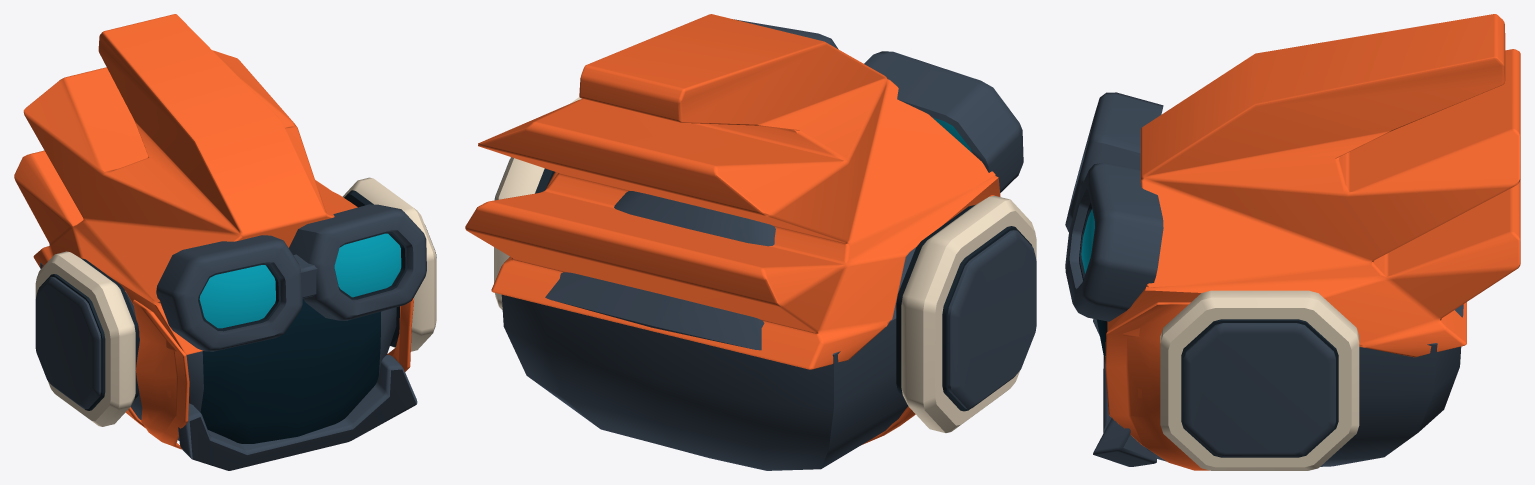
The model's file is copilot_developer_v01.glb.
3 renders of one model, left to right at view 1: azimuth 30°, elevation 25°; view 2: azimuth 150°, elevation 25°; view 3: azimuth 270°, elevation 25°, orthographic. The views are drawn at different scales.
Parts seen in each view (by area): view 1: developer_model; view 2: developer_model; view 3: developer_model.
Part boxes in pixels (x1,y1,x2,y2): developer_model: (14,14,436,470); developer_model: (465,14,1036,470); developer_model: (1065,14,1520,470).
Size of the model in its own units: 2.44 by 2.2 by 2.29.
Materials: 2 (2 with a texture image).
